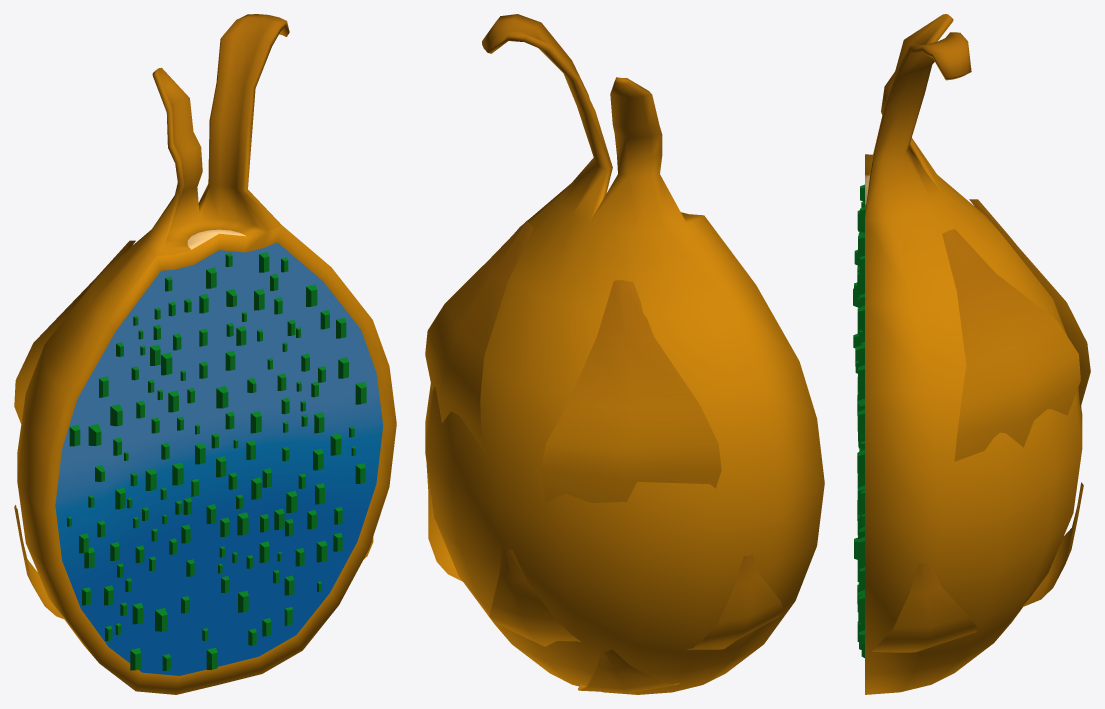
File: Pitaya_half_yellow.fbx
3 renders of one model, left to right at view 1: azimuth 30°, elevation 25°; view 2: azimuth 150°, elevation 25°; view 3: azimuth 270°, elevation 25°, orthographic. The views are drawn at different scales.
Parts seen in each view (by area): view 1: Pitaya_half_yellow; view 2: Pitaya_half_yellow; view 3: Pitaya_half_yellow.
Part boxes in pixels (box(x1,y1,x2,y2)): Pitaya_half_yellow: box(14, 14, 396, 694); Pitaya_half_yellow: box(425, 14, 824, 694); Pitaya_half_yellow: box(853, 14, 1090, 694).
Bounding box in the file's own units: 103 × 172 × 55.67.
